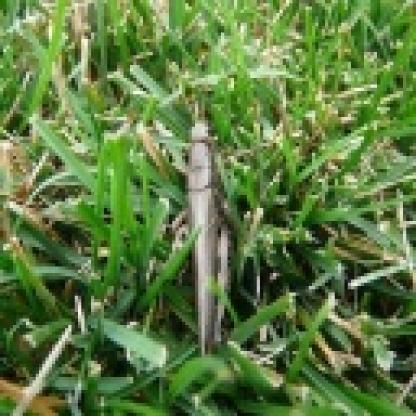grasshopper: (167, 107, 258, 356)
